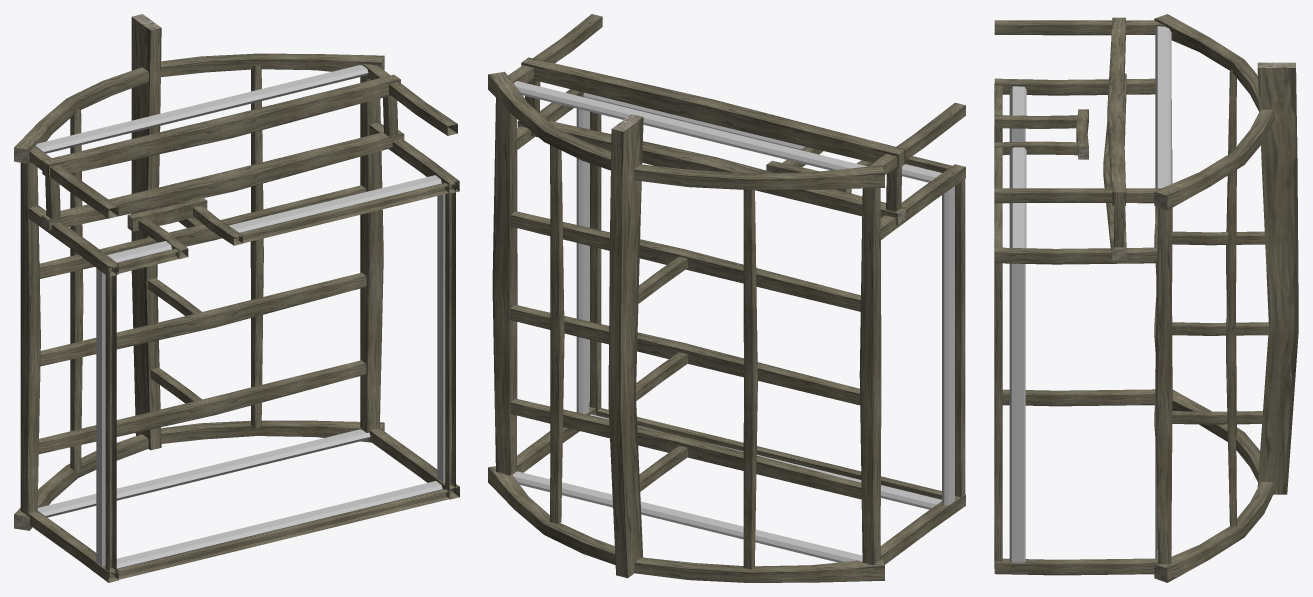
File: Pirate_House_Structure_C.fbx
3 views of the same model, side by side, from view 1: azimuth 30°, elevation 25°; view 2: azimuth 150°, elevation 25°; view 3: azimuth 270°, elevation 25° (orthographic). The views are drawn at different scales.
Visible parts, largest first — view 1: Pirate_House_Structure_C; view 2: Pirate_House_Structure_C; view 3: Pirate_House_Structure_C.
Boxes of the visible parts, bbox=[...] form: Pirate_House_Structure_C: bbox=[14, 14, 459, 582]; Pirate_House_Structure_C: bbox=[488, 14, 965, 582]; Pirate_House_Structure_C: bbox=[994, 14, 1298, 582].
Bounding box in the file's own units: 10.33 × 11.22 × 7.24.
